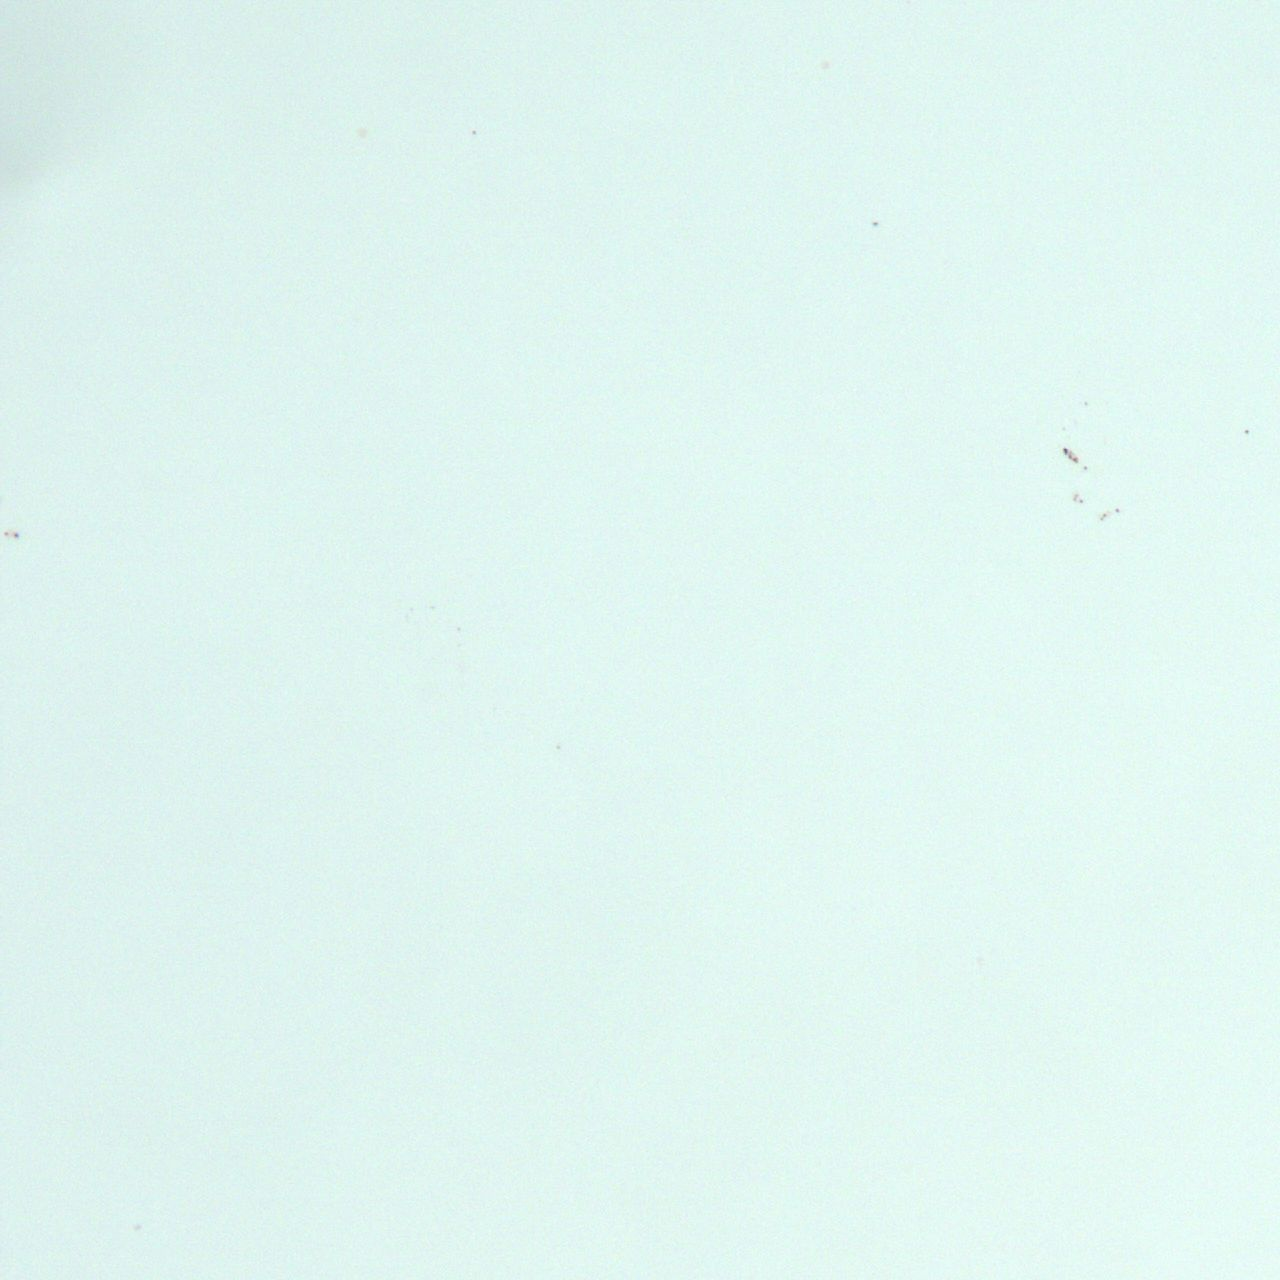dust: (471, 130, 478, 138), (12, 532, 19, 539), (1073, 456, 1080, 463), (2, 529, 8, 537), (872, 222, 878, 229), (1114, 508, 1121, 513), (1067, 452, 1073, 459), (1242, 429, 1250, 434), (1101, 512, 1107, 517), (1073, 493, 1080, 497), (1063, 448, 1067, 455), (1080, 501, 1083, 505), (1083, 467, 1087, 470), (1099, 517, 1103, 520), (1083, 402, 1087, 406), (1073, 498, 1077, 501)
